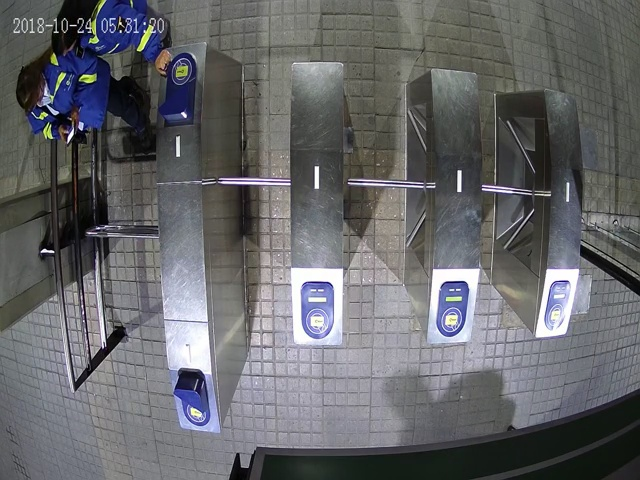Chaleco_azul: (15, 47, 150, 141), (52, 1, 172, 75)
